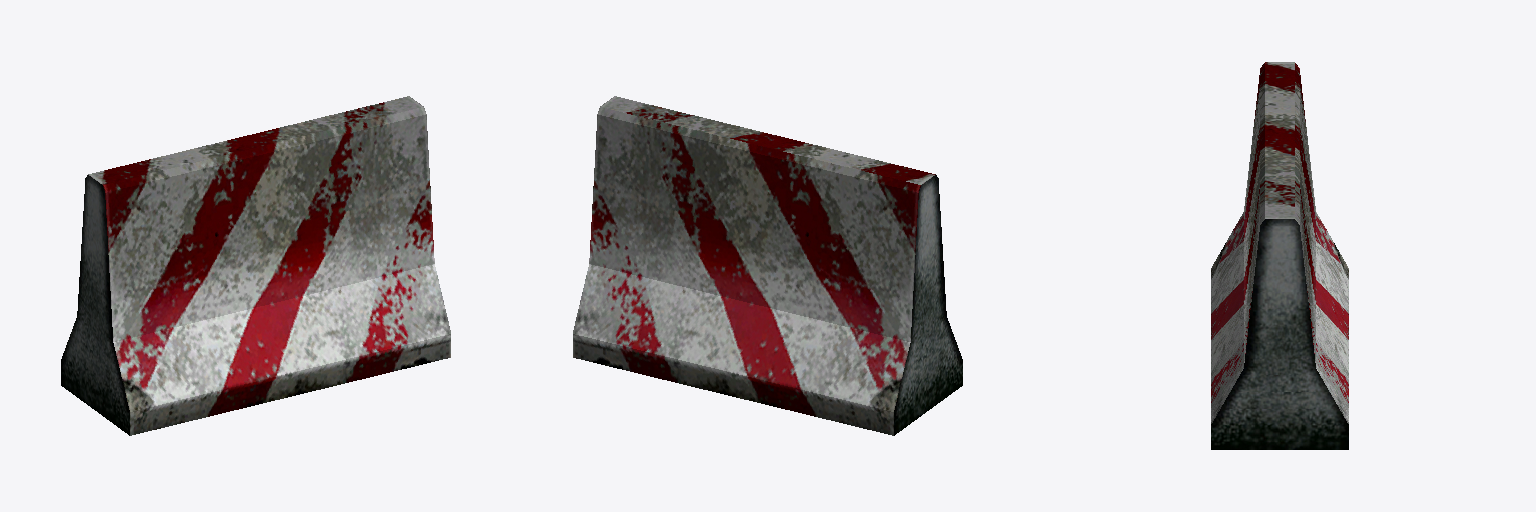
3 views of the same model, side by side, from view 1: azimuth 30°, elevation 25°; view 2: azimuth 150°, elevation 25°; view 3: azimuth 270°, elevation 25° (orthographic).
Visible parts, largest first — view 1: roadblock_obj; view 2: roadblock_obj; view 3: roadblock_obj.
Boxes of the visible parts, x1=… form: roadblock_obj: x1=61, y1=96, x2=450, y2=435; roadblock_obj: x1=573, y1=96, x2=962, y2=435; roadblock_obj: x1=1211, y1=62, x2=1348, y2=449.
Size of the model in its own units: 3.34 by 2.29 by 1.25.
1 materials, 1 textured.